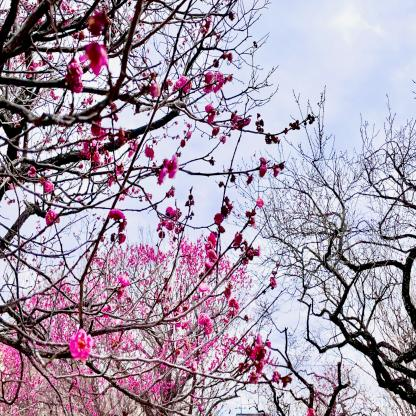Ume: (1, 0, 353, 416)
